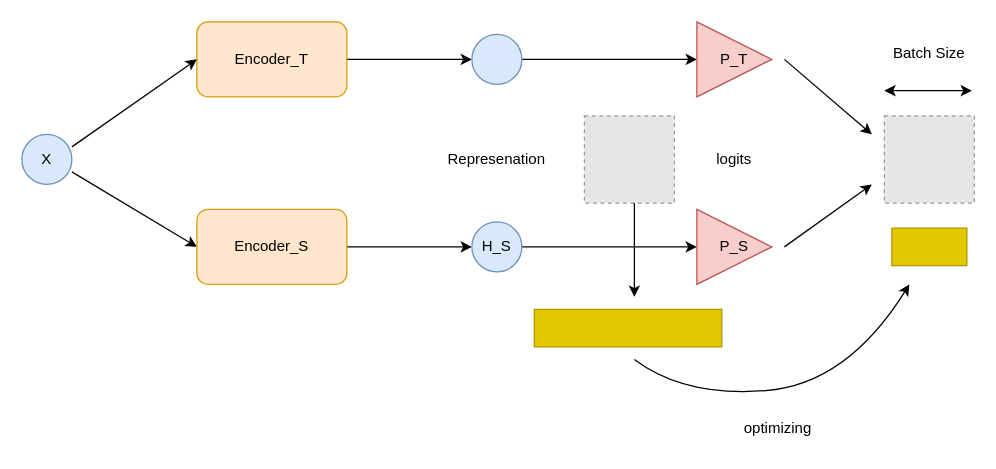
This 996x469 diagram has some shape labels left out. Grey dashed boxes stand in for pictures. The shapes that lost their labels are listed below. From the top down, each one's centre as x and y in pixels, then its label:
[496,58]: H_T
[929,246]: T-S correlation
[627,327]: Representation correlation
